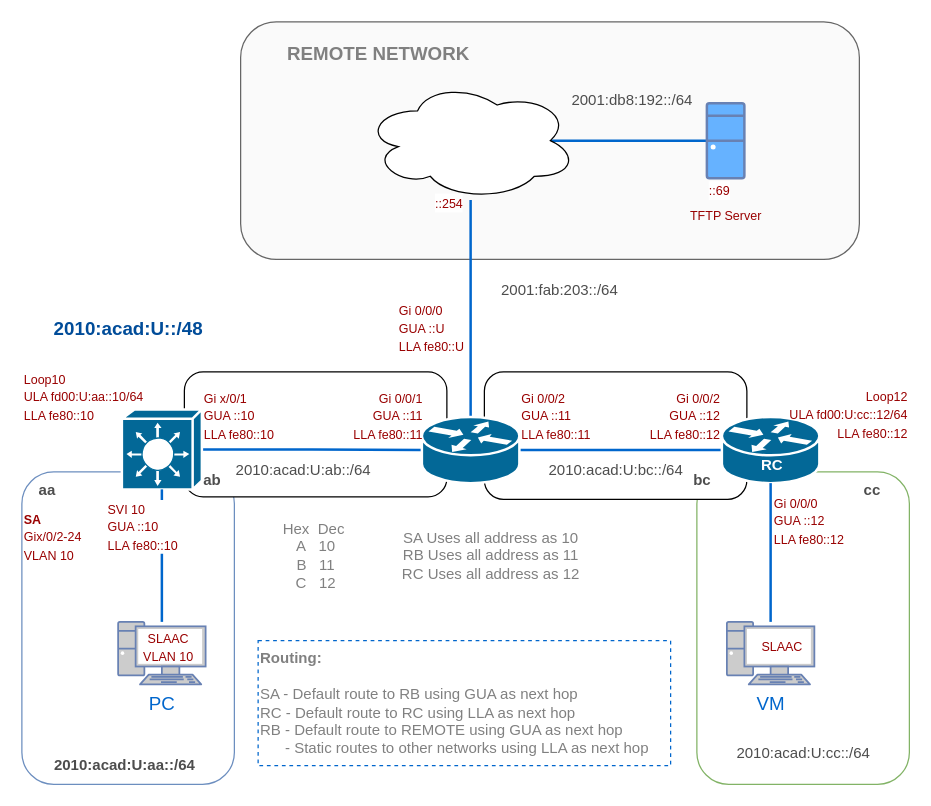
The diagram is 931 pixels wide and 806 high, and some of its shapes have lost their labels. The centre of each missing label's shape, as x and y in pixels:
RB: (470,449)
SA: (161,449)
